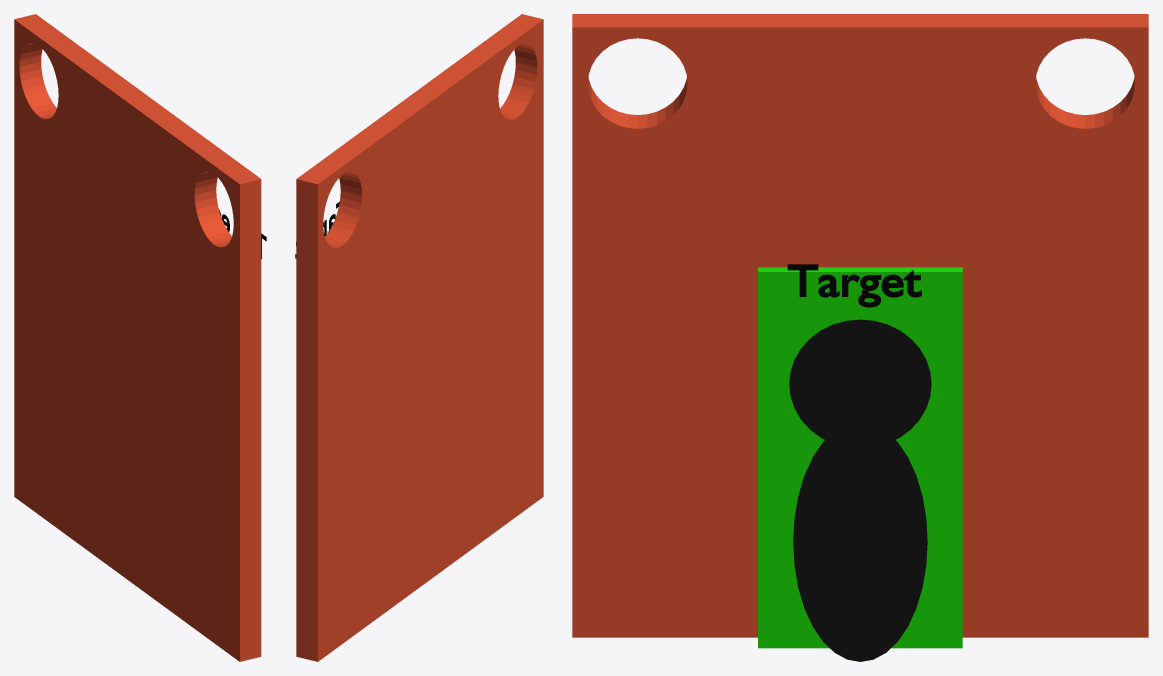
The model's file is target .fbx.
The picture shows the model from 3 angles, left to right: view 1: azimuth 30°, elevation 25°; view 2: azimuth 150°, elevation 25°; view 3: azimuth 270°, elevation 25°; orthographic projection. The views are drawn at different scales.
Parts seen in each view (by area): view 1: Cube.001; view 2: Cube.001; view 3: Cube.001, Cube, Circle.001, Circle, Text.
Boxes of the visible parts, <box> form: Cube.001: <box>14,14,261,661</box>; Cube.001: <box>296,14,543,661</box>; Cube.001: <box>572,14,1148,637</box>; Cube: <box>758,267,962,648</box>; Circle.001: <box>793,422,927,661</box>; Circle: <box>789,319,931,439</box>; Text: <box>787,264,921,307</box>.
Size of the model in its own units: 329 by 1348 by 1154.
